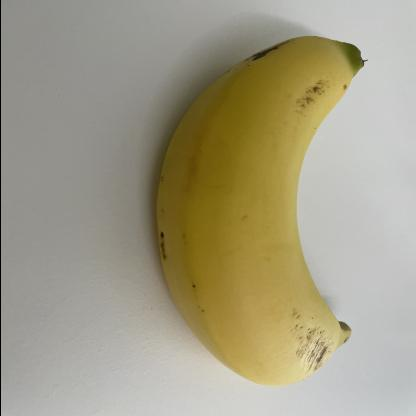banana: (152, 36, 370, 386)
